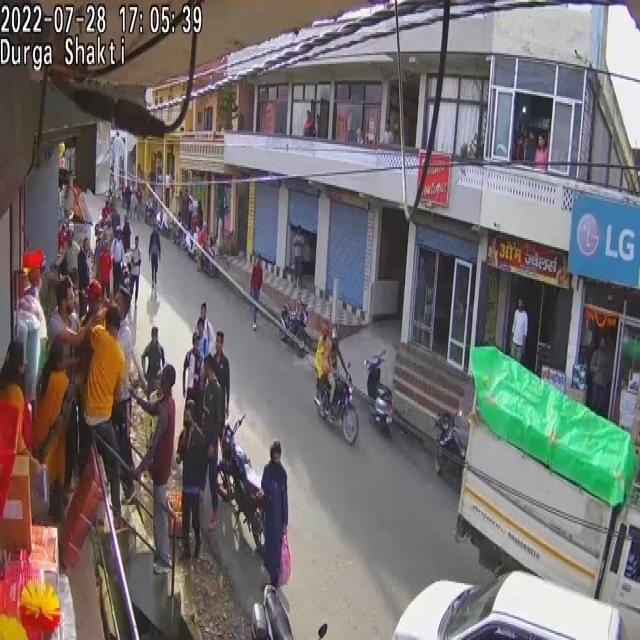fight: (79, 304, 128, 524), (129, 361, 177, 574), (34, 338, 74, 519), (0, 341, 37, 525), (314, 323, 334, 409)
non-fight: (177, 401, 210, 560), (200, 353, 225, 528), (260, 440, 288, 588), (208, 333, 230, 441), (323, 328, 348, 411), (182, 330, 204, 418), (589, 336, 611, 417), (141, 327, 165, 400), (195, 304, 217, 372), (510, 298, 528, 363), (249, 254, 263, 328), (127, 241, 141, 308), (111, 230, 125, 296), (148, 226, 161, 289)
